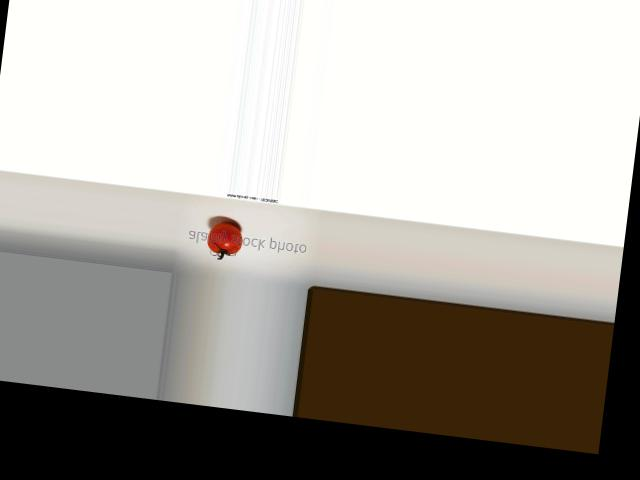tomato: (206, 220, 244, 256)
